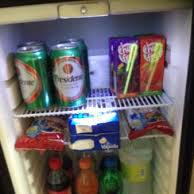beer: (13, 37, 94, 105)
